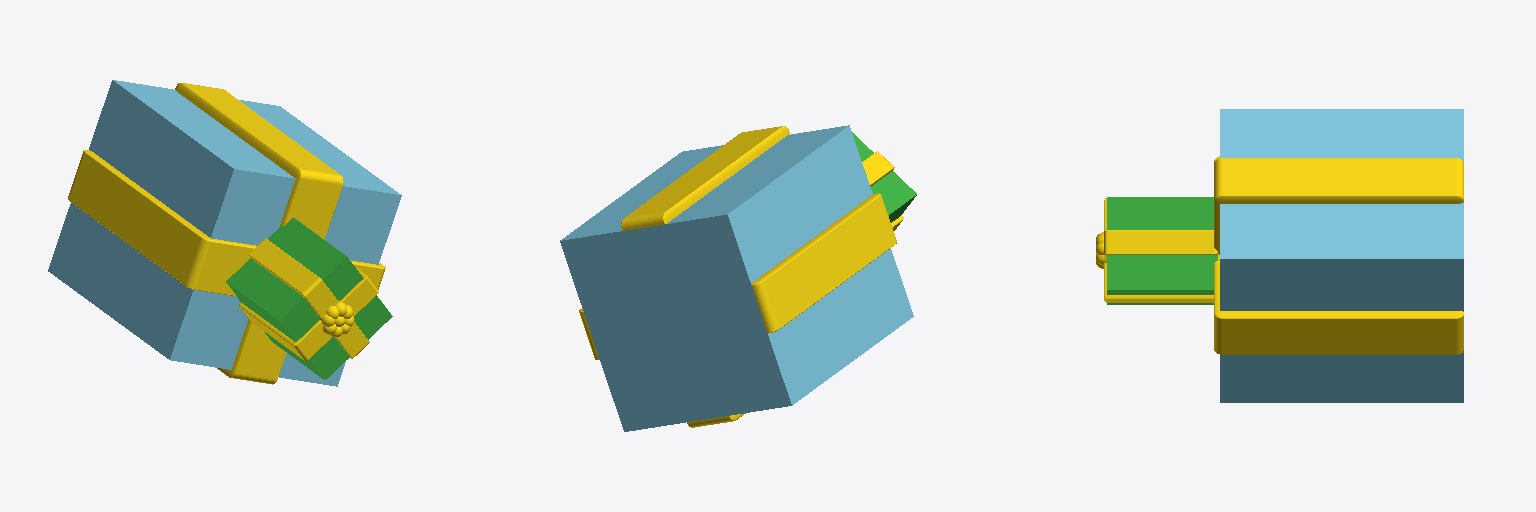
3 views of the same model, side by side, from view 1: azimuth 30°, elevation 25°; view 2: azimuth 150°, elevation 25°; view 3: azimuth 270°, elevation 25° (orthographic).
Visible parts, largest first — view 1: obj_0; view 2: obj_0; view 3: obj_0.
Part boxes in pixels (bbox=[...]): obj_0: bbox=[48, 80, 401, 386]; obj_0: bbox=[560, 125, 916, 431]; obj_0: bbox=[1096, 109, 1463, 402].
Bounding box in the file's own units: 22 × 22 × 30.22.